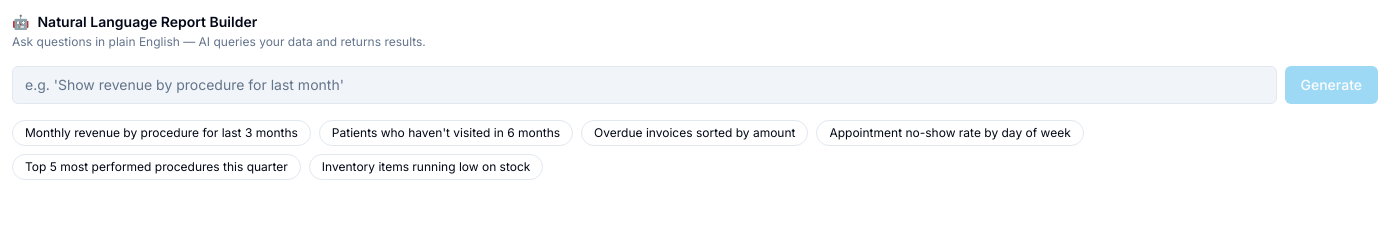
Test: ReportBuilder › shows loading indicator while fetching
Step 1. Type "Show data" into the field with placeholder "e.g. 'Show revenue by procedure for last month'" → (644, 85), box left=12, top=66, right=1276, bottom=104
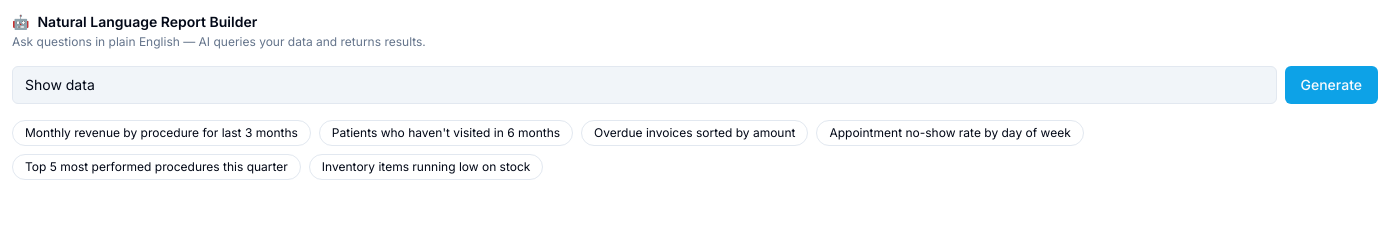
Step 2. Click the button "Generate" → (1331, 85), box left=1284, top=66, right=1378, bottom=104
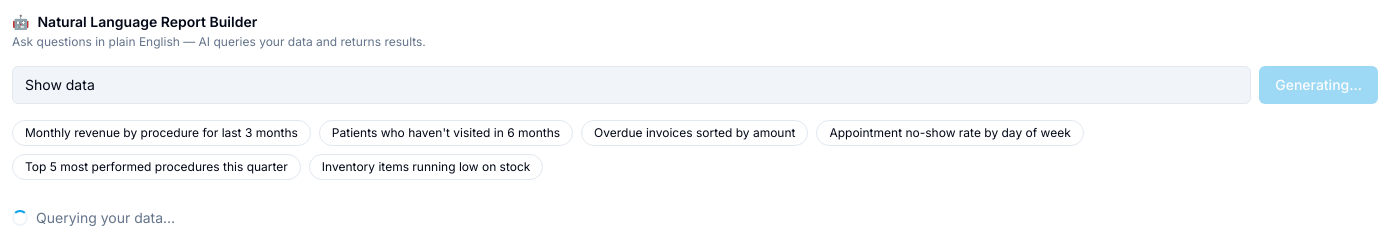
expect the text "Querying your data…" is shown: met, box left=36, top=208, right=175, bottom=228
expect the button "Generating…" is shown: met, box left=1259, top=66, right=1378, bottom=104
